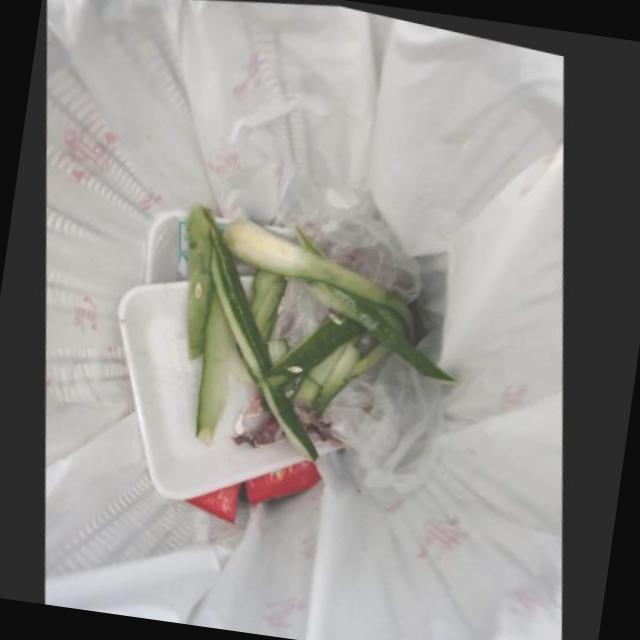goi_nhua_nho: (249, 454, 326, 500), (189, 477, 246, 519)
vo_rau_cu: (213, 218, 324, 457), (298, 272, 465, 376), (227, 213, 392, 299), (297, 324, 393, 412), (268, 304, 370, 385), (201, 274, 236, 441), (187, 204, 215, 356), (255, 263, 291, 343)
xop: (121, 275, 310, 496)
